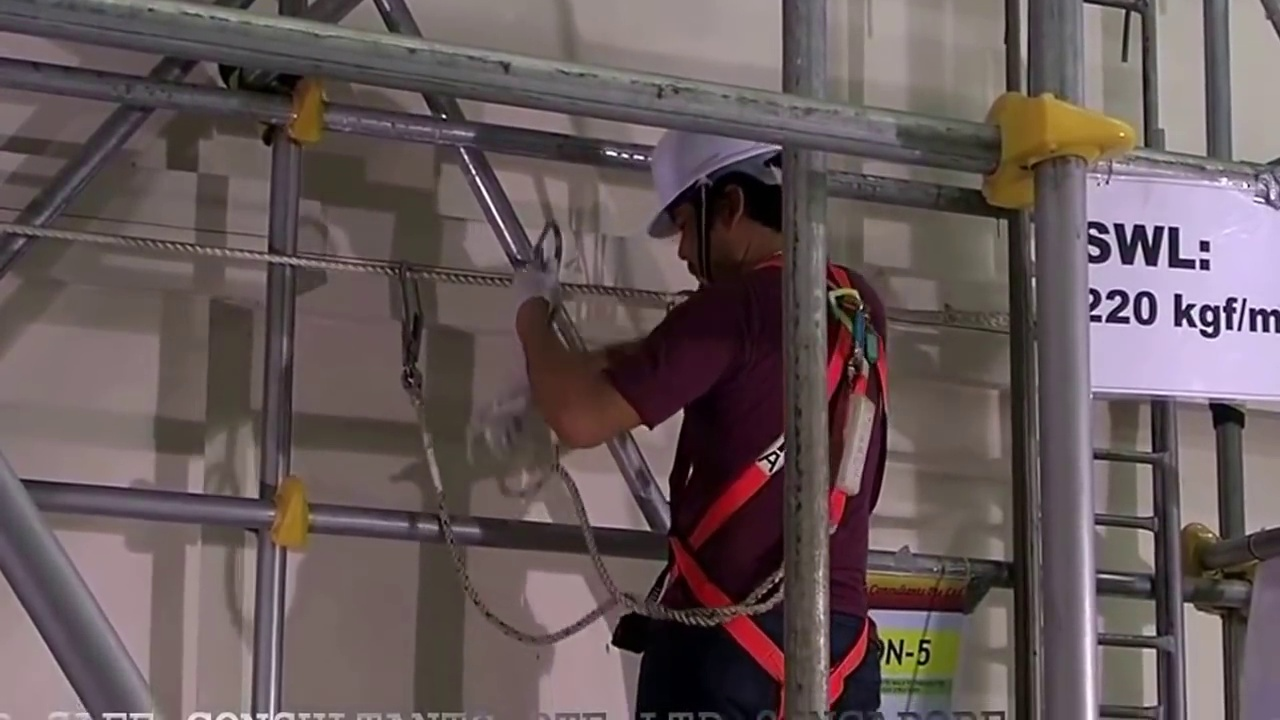harness: (721, 277, 888, 695)
helmet: (648, 131, 776, 193)
hook: (388, 257, 429, 376)
leash: (407, 454, 625, 652)
